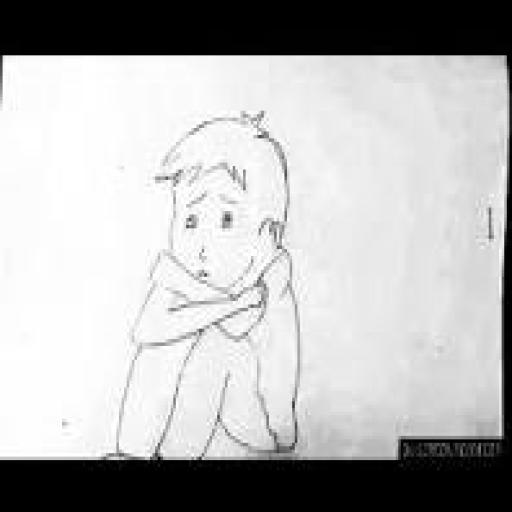person: (104, 101, 308, 458)
